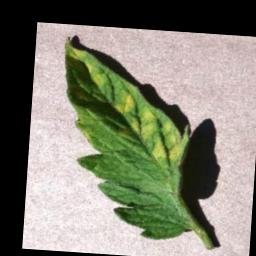Leaf_Mold: (108, 87, 192, 159), (60, 42, 110, 88)
